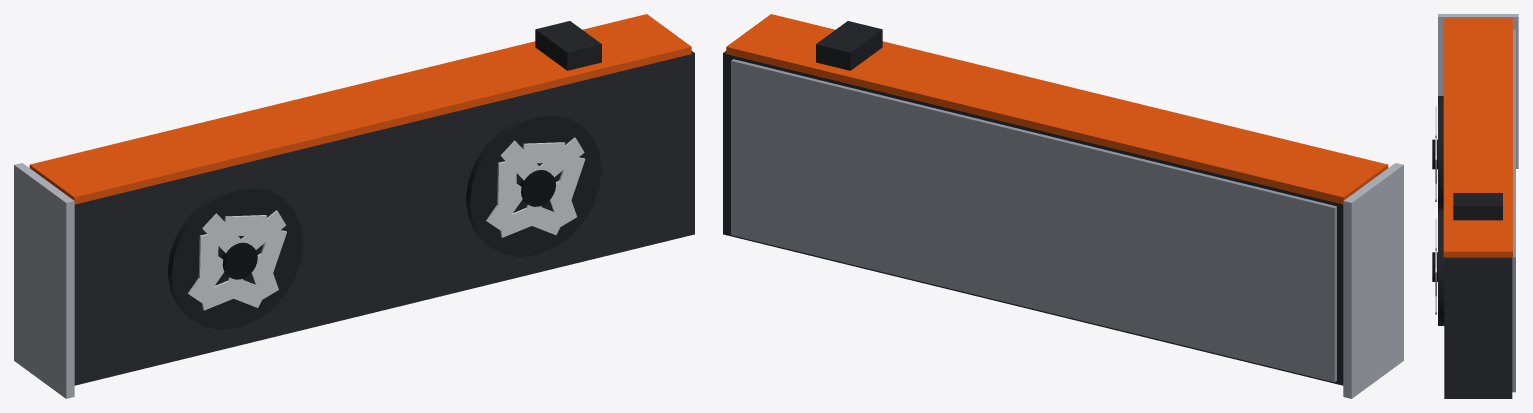
The model's file is gpu.fbx.
The picture shows the model from 3 angles, left to right: view 1: azimuth 30°, elevation 25°; view 2: azimuth 150°, elevation 25°; view 3: azimuth 270°, elevation 25°; orthographic projection. The views are drawn at different scales.
Parts seen in each view (by area): view 1: gpu_0, gpu_26, gpu_25, gpu_13, gpu_2, gpu_27, gpu_12, gpu_23, gpu_5, gpu_14, gpu_7, gpu_9 (+14 smaller); view 2: gpu_24, gpu_26, gpu_25, gpu_0, gpu_27; view 3: gpu_26, gpu_0, gpu_27, gpu_25, gpu_24, gpu_13, gpu_2, gpu_12, gpu_23.
Boxes of the visible parts, bbox=[...] form: gpu_0: bbox=[74, 51, 694, 385]; gpu_26: bbox=[29, 14, 691, 204]; gpu_25: bbox=[14, 163, 74, 398]; gpu_13: bbox=[466, 112, 601, 256]; gpu_2: bbox=[167, 185, 303, 329]; gpu_27: bbox=[535, 21, 601, 70]; gpu_12: bbox=[221, 242, 257, 279]; gpu_23: bbox=[520, 170, 555, 206]; gpu_5: bbox=[222, 215, 266, 236]; gpu_14: bbox=[553, 157, 585, 203]; gpu_7: bbox=[198, 233, 218, 279]; gpu_9: bbox=[201, 278, 244, 310]; gpu_24: bbox=[731, 59, 1336, 382]; gpu_26: bbox=[726, 14, 1388, 204]; gpu_25: bbox=[1343, 163, 1403, 398]; gpu_0: bbox=[723, 51, 1343, 385]; gpu_27: bbox=[816, 21, 882, 70]; gpu_26: bbox=[1443, 18, 1512, 257]; gpu_0: bbox=[1444, 257, 1512, 398]; gpu_27: bbox=[1453, 193, 1502, 220]; gpu_25: bbox=[1438, 14, 1518, 168]; gpu_24: bbox=[1512, 29, 1515, 392]; gpu_13: bbox=[1438, 208, 1444, 325]; gpu_2: bbox=[1438, 96, 1443, 208]; gpu_12: bbox=[1432, 139, 1437, 169]; gpu_23: bbox=[1432, 252, 1437, 281].
Size of the model in its own units: 9.12 by 3.1 by 1.39.
